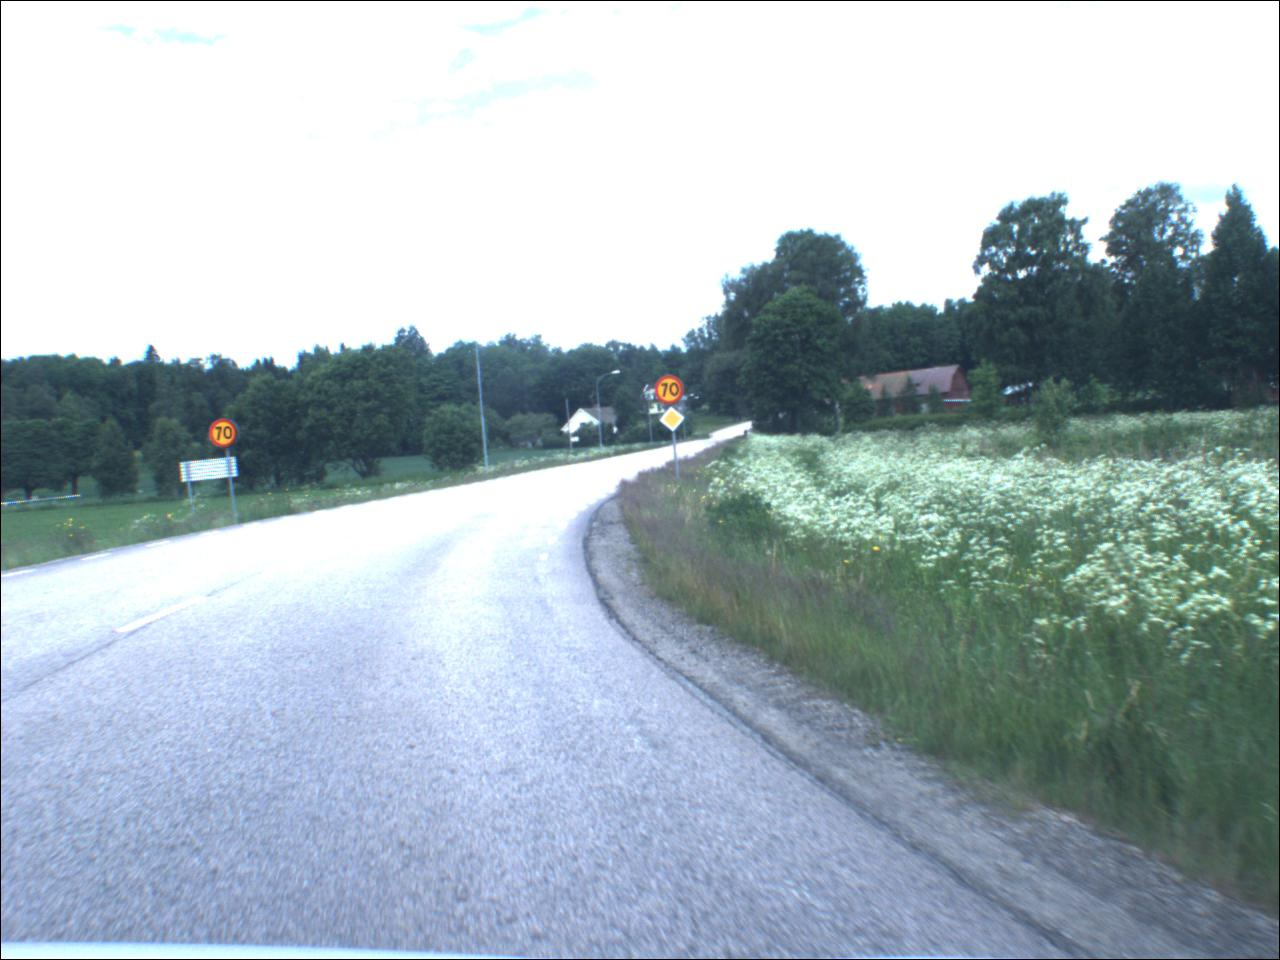70_SIGN: (655, 375, 688, 407), (210, 417, 240, 452)
PRIORITY_ROAD: (659, 408, 689, 436)
